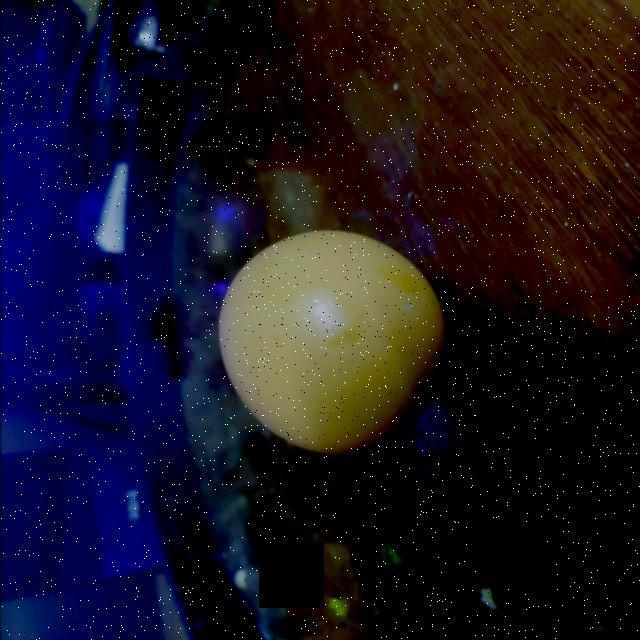egg: (214, 228, 448, 462)
